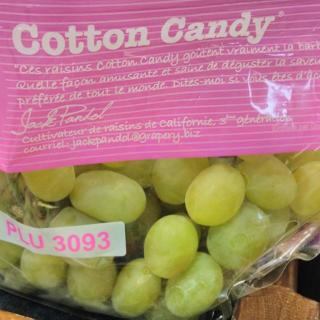Grape: (0, 149, 319, 319)
